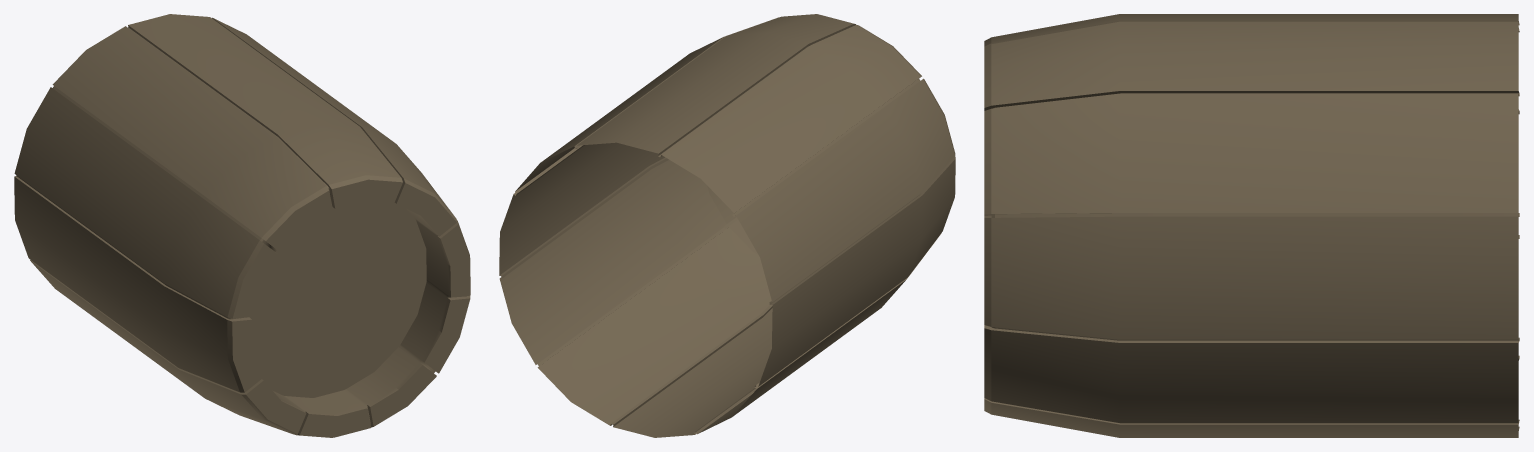
The model's file is SM_Barrel01.fbx.
3 renders of one model, left to right at view 1: azimuth 30°, elevation 25°; view 2: azimuth 150°, elevation 25°; view 3: azimuth 270°, elevation 25°, orthographic. The views are drawn at different scales.
Parts seen in each view (by area): view 1: pCylinder7; view 2: pCylinder7; view 3: pCylinder7.
Part boxes in pixels (box(x1,y1,x2,y2)): pCylinder7: box(14, 14, 470, 437); pCylinder7: box(499, 14, 955, 437); pCylinder7: box(984, 14, 1519, 437).
Bounding box in the file's own units: 72.92 × 72.87 × 92.8.
